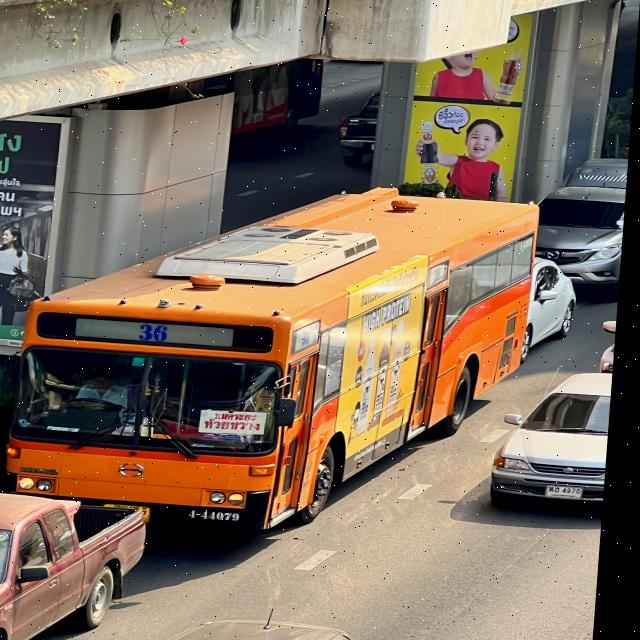BMTA-bus: (12, 188, 544, 532)
Bus Line Number: (134, 316, 188, 348)
Bus Side Number: (193, 508, 252, 524)
Destination Sign: (206, 409, 273, 434)
